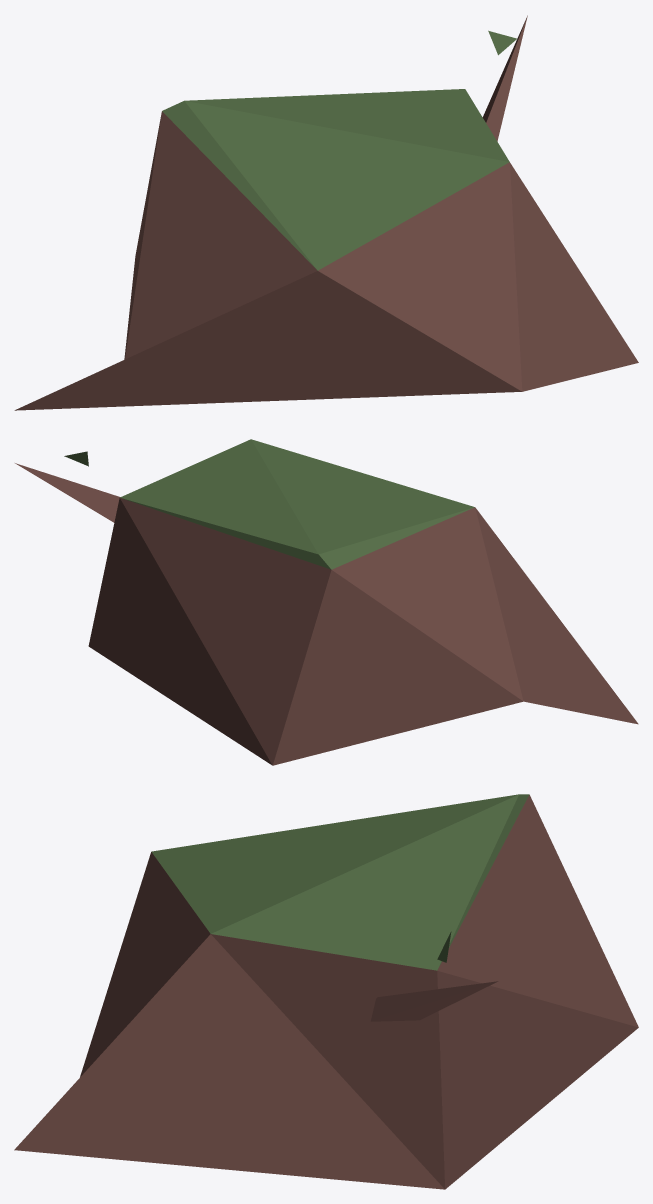
Rendered from TreeStump_Moss.lod3.glb.
3 views of the same model, one above another, from view 1: azimuth 30°, elevation 25°; view 2: azimuth 150°, elevation 25°; view 3: azimuth 270°, elevation 25° (orthographic). The views are drawn at different scales.
Parts seen in each view (by area): view 1: TreeStump_Moss; view 2: TreeStump_Moss; view 3: TreeStump_Moss.
Part boxes in pixels (x1,y1,x2,y2): TreeStump_Moss: [14, 15, 638, 410]; TreeStump_Moss: [15, 439, 638, 765]; TreeStump_Moss: [14, 794, 638, 1189].
Size of the model in its own units: 1.27 by 0.4424 by 0.9537.
